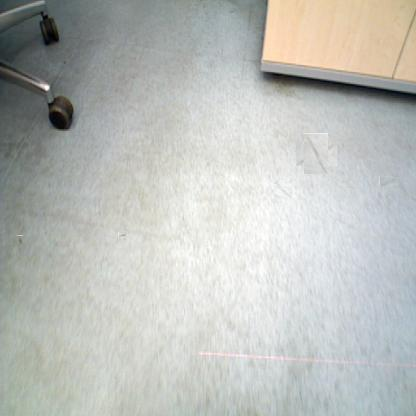mark: (300, 138, 333, 170), (274, 181, 292, 197), (379, 176, 398, 186), (119, 232, 127, 239), (17, 235, 23, 244), (62, 58, 66, 64)
